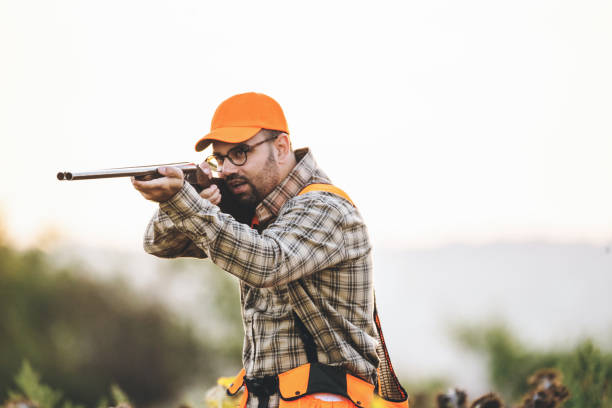gun: (56, 160, 212, 191)
